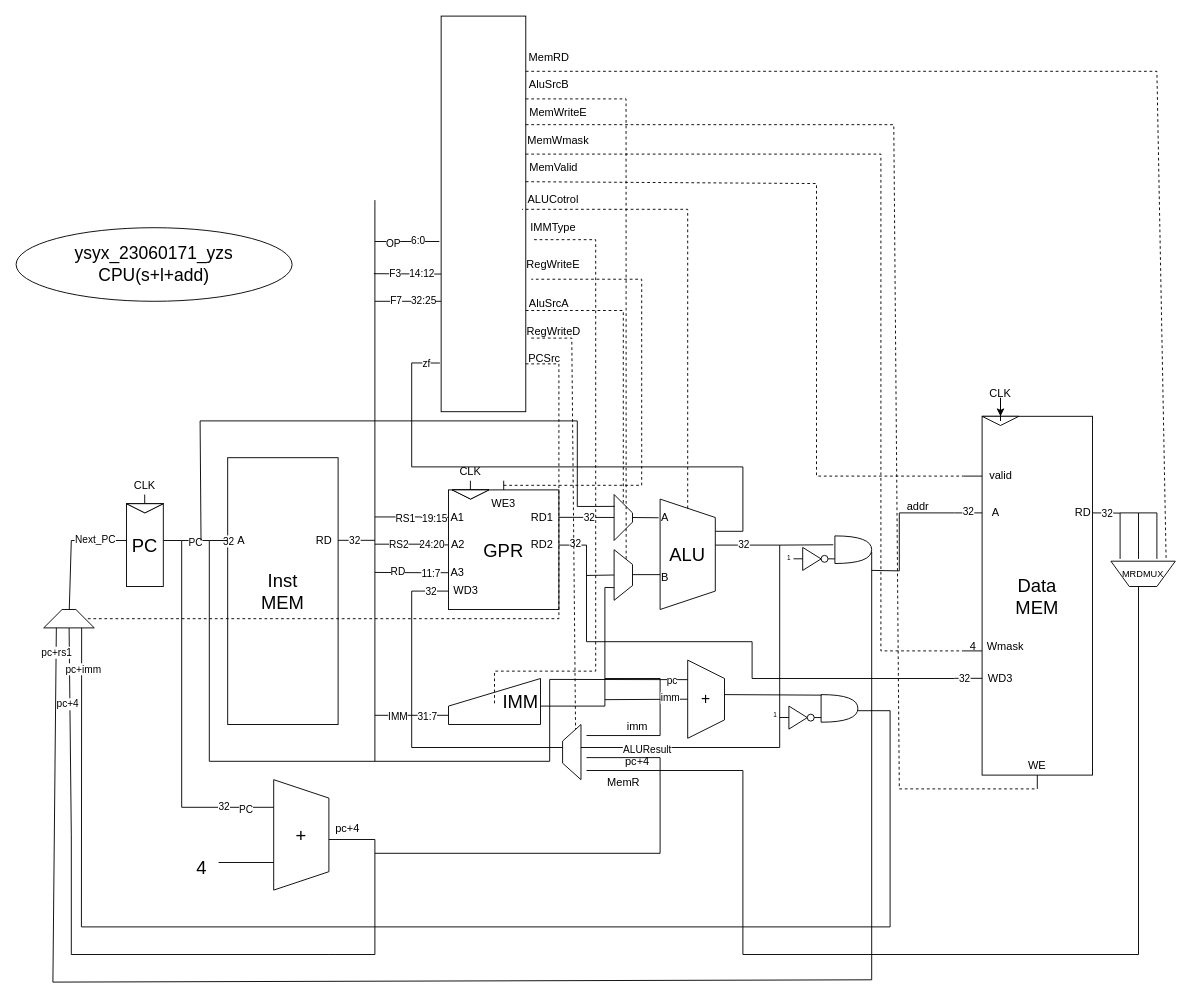
This 1191x999 diagram has some shape labels left out. Each missing label, with the centre of its shape:
IDU: point 483,213
MUXA: point 622,517
MUXB: point 622,574
PCMUX: point 68,618
WDMUX: point 571,752
